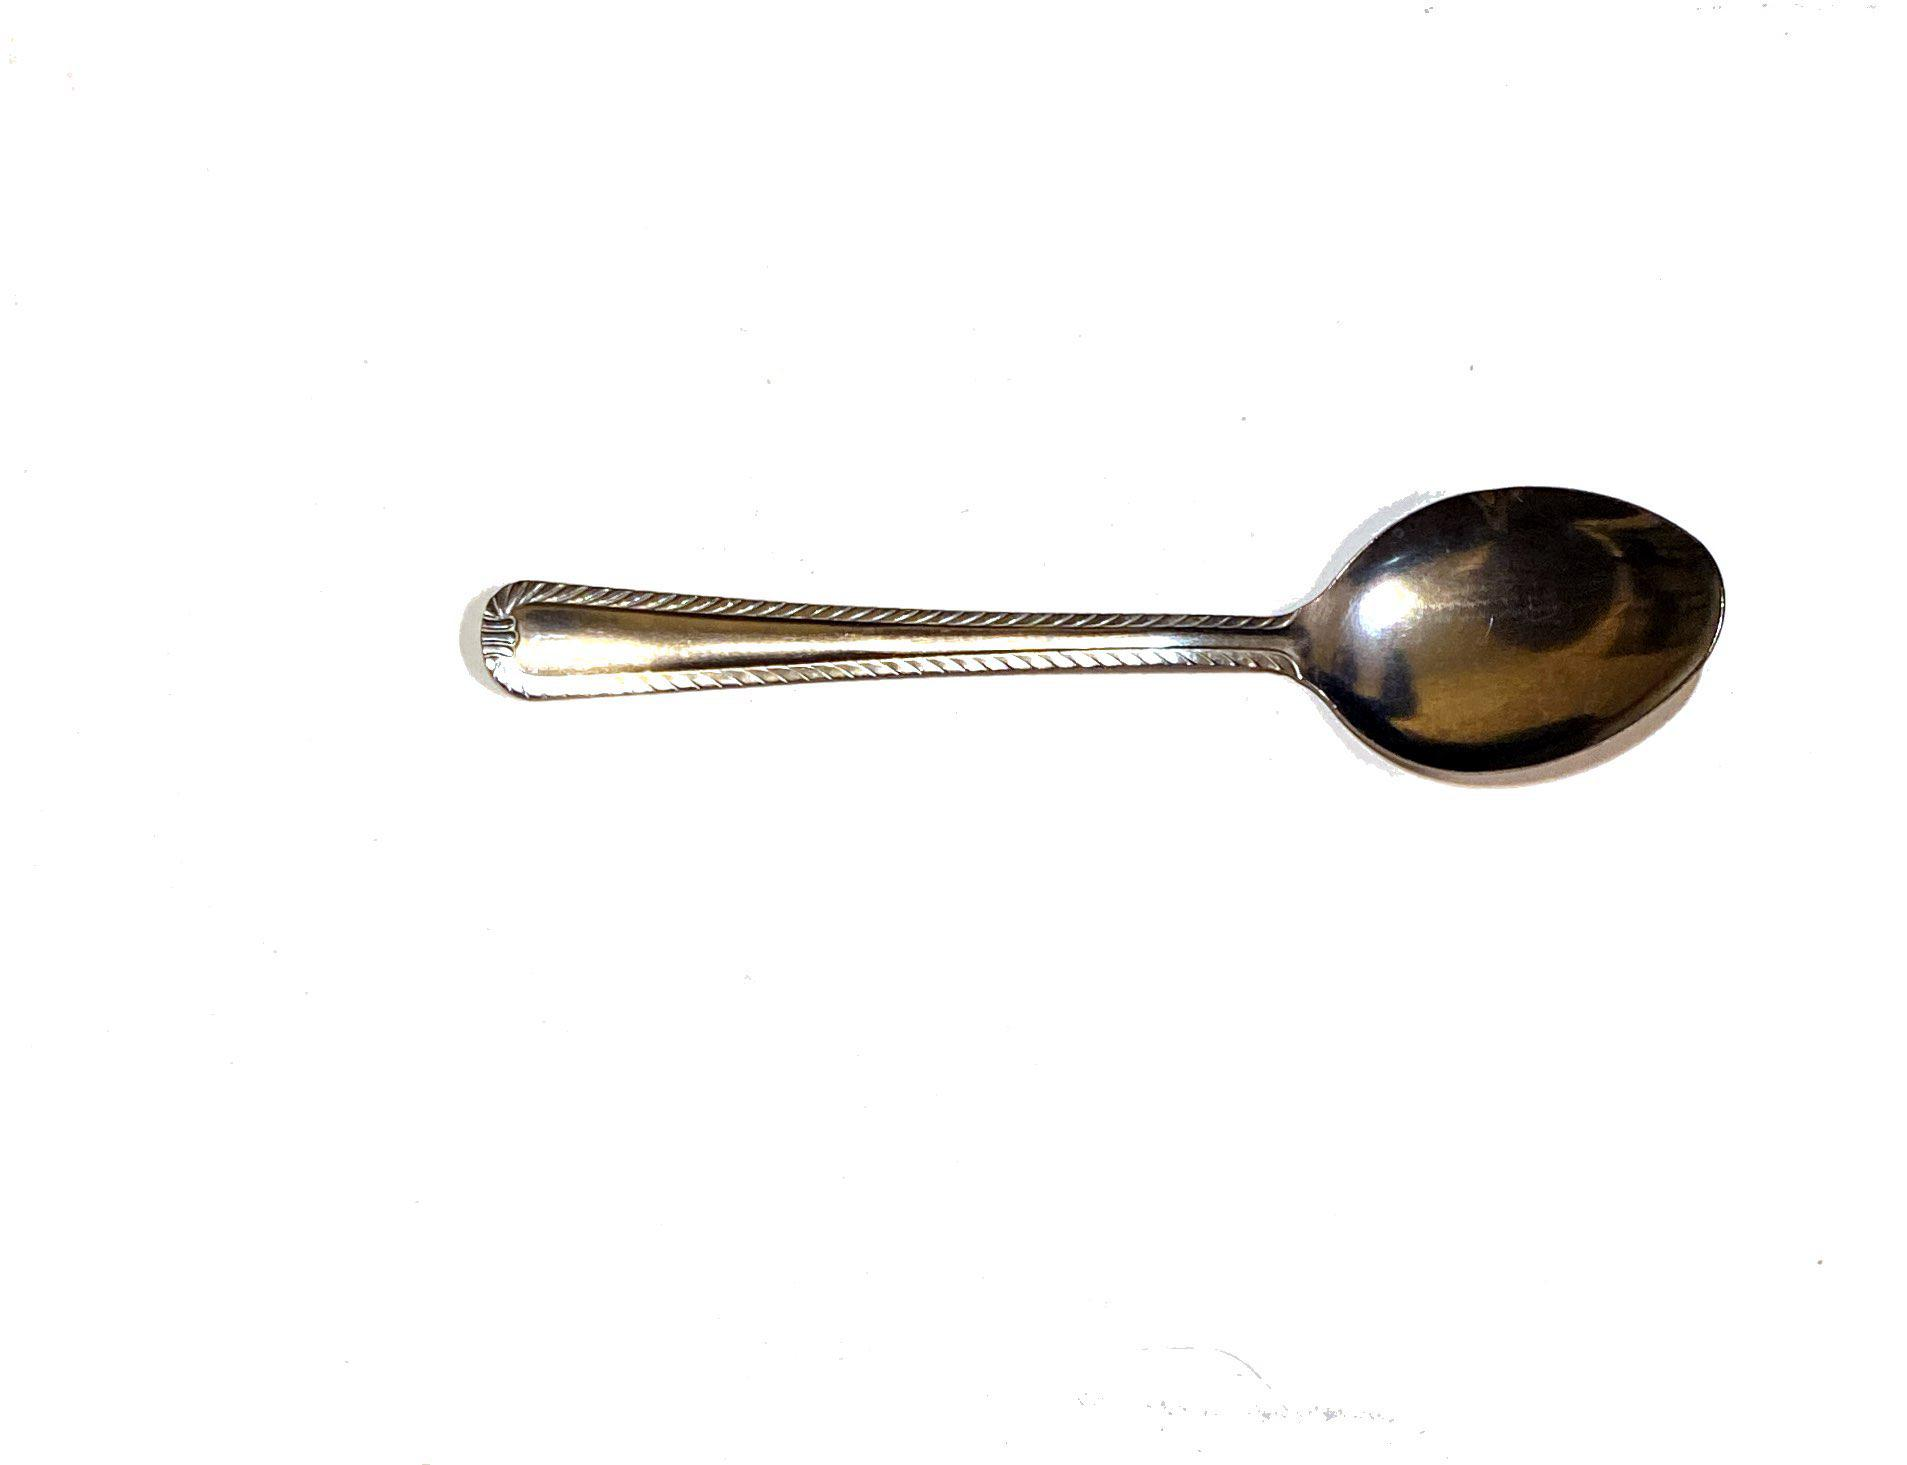Spoon: (420, 399, 1815, 869)
